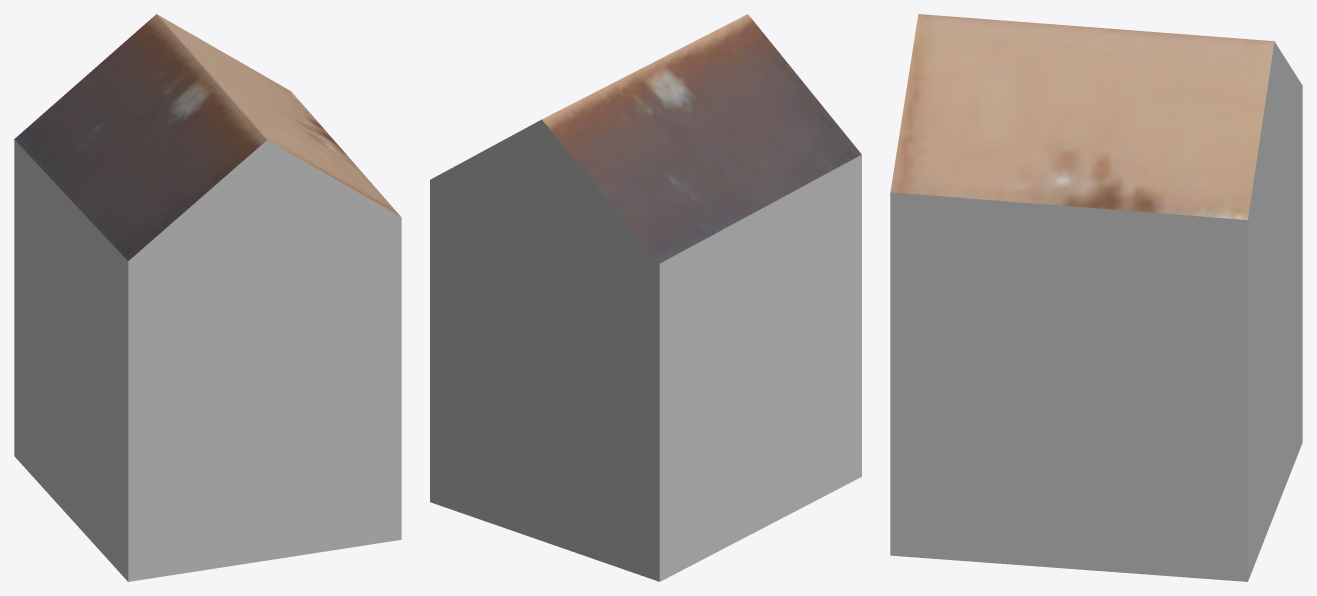
The model's file is DEBW_0010007Txhf.gltf.
The picture shows the model from 3 angles, left to right: view 1: azimuth 30°, elevation 25°; view 2: azimuth 150°, elevation 25°; view 3: azimuth 270°, elevation 25°; orthographic projection. The views are drawn at different scales.
Visible parts, largest first — view 1: Z_UP; view 2: Z_UP; view 3: Z_UP.
Part boxes in pixels (x1=…): Z_UP: x1=14, y1=14, x2=401, y2=581; Z_UP: x1=430, y1=14, x2=861, y2=581; Z_UP: x1=890, y1=14, x2=1302, y2=581.
Bounding box in the file's own units: 13 × 17.62 × 13.88.
2 materials, 1 textured.
